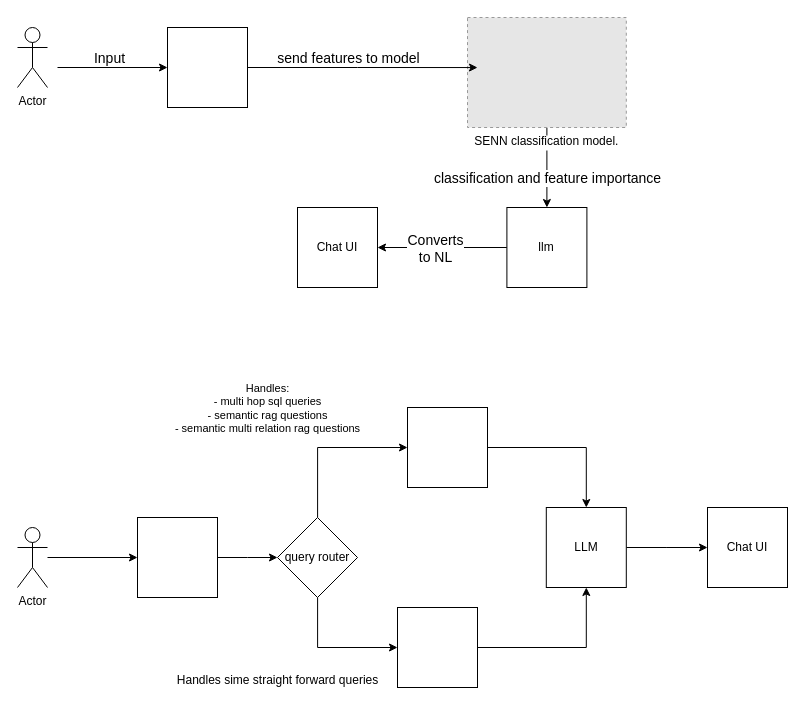
The diagram is 805 pixels wide and 713 high, and some of its shapes have lost their labels. Grey dashed boxes stand in for pictures. The shapes that lost their labels are listed below. From the top down, each one's box as (x1, y1, x2, y2) in pixels, then its label:
(166, 26, 248, 108): Input encoder
(406, 406, 488, 488): Graph RAG
(136, 516, 218, 598): query decomposer
(396, 606, 478, 688): SQL agent
